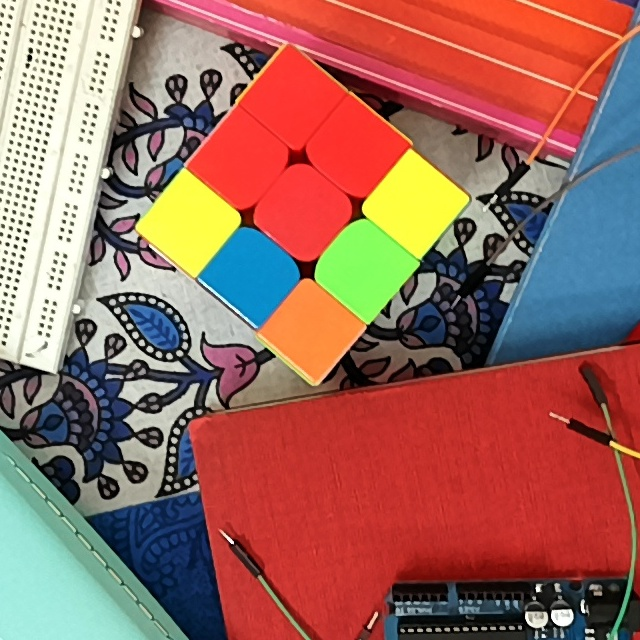tile: (327, 123, 382, 179), (215, 133, 267, 186), (278, 186, 328, 241), (286, 306, 339, 357), (263, 75, 318, 124), (337, 243, 389, 294), (226, 249, 276, 298), (164, 199, 212, 250), (393, 176, 439, 227)
